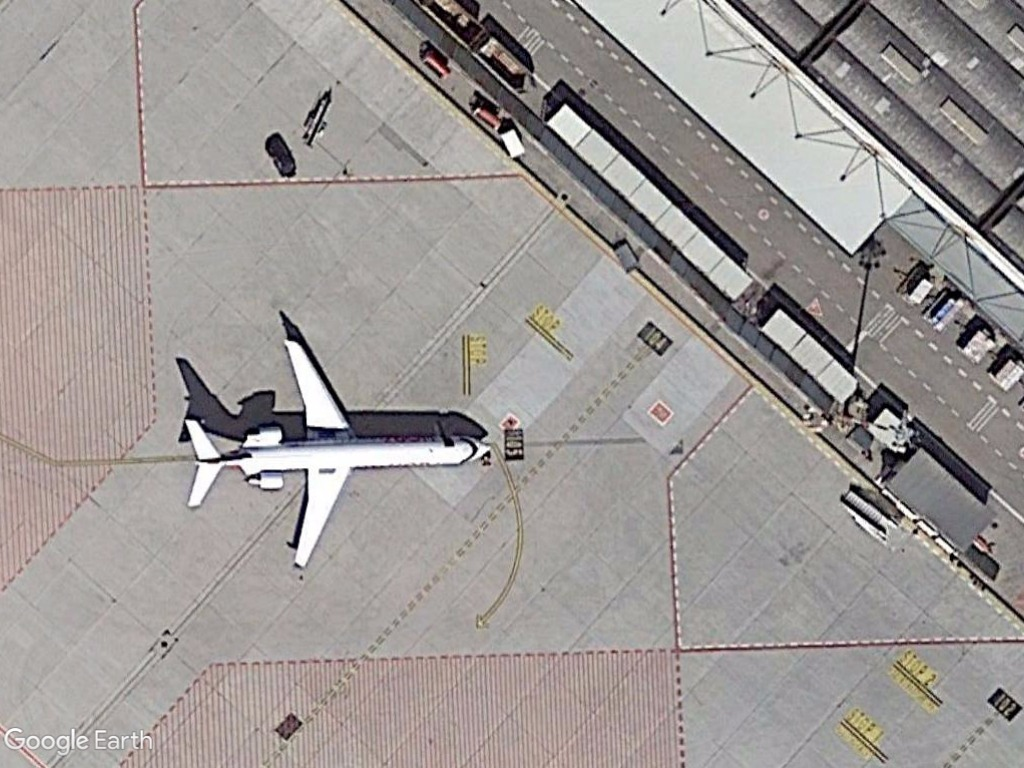chartered: (179, 327, 496, 581)
stairtruck: (838, 486, 903, 545)
